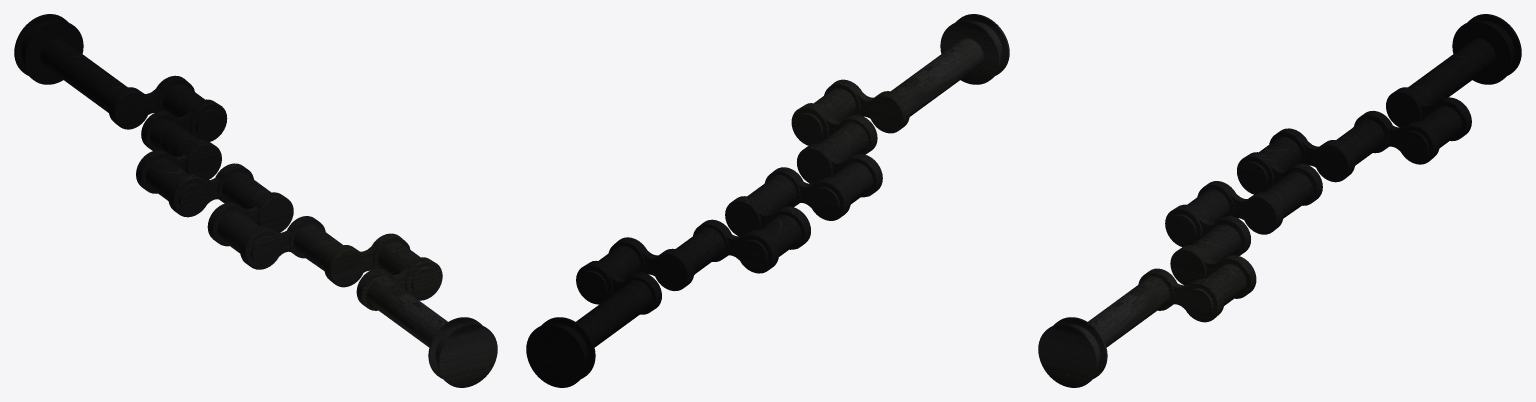
File: crankshaft.obj
3 renders of one model, left to right at view 1: azimuth 30°, elevation 25°; view 2: azimuth 150°, elevation 25°; view 3: azimuth 330°, elevation 25°, orthographic.
Visible parts, largest first — view 1: CrankshaftFin_Circle.002; view 2: CrankshaftFin_Circle.002; view 3: CrankshaftFin_Circle.002.
Boxes of the visible parts, x1,y1,x2,y2 form: CrankshaftFin_Circle.002: (14, 14, 497, 387); CrankshaftFin_Circle.002: (526, 14, 1009, 387); CrankshaftFin_Circle.002: (1038, 14, 1521, 387).
Bounding box in the file's own units: 4.82 × 2.25 × 28.17.
1 material, 1 textured.
